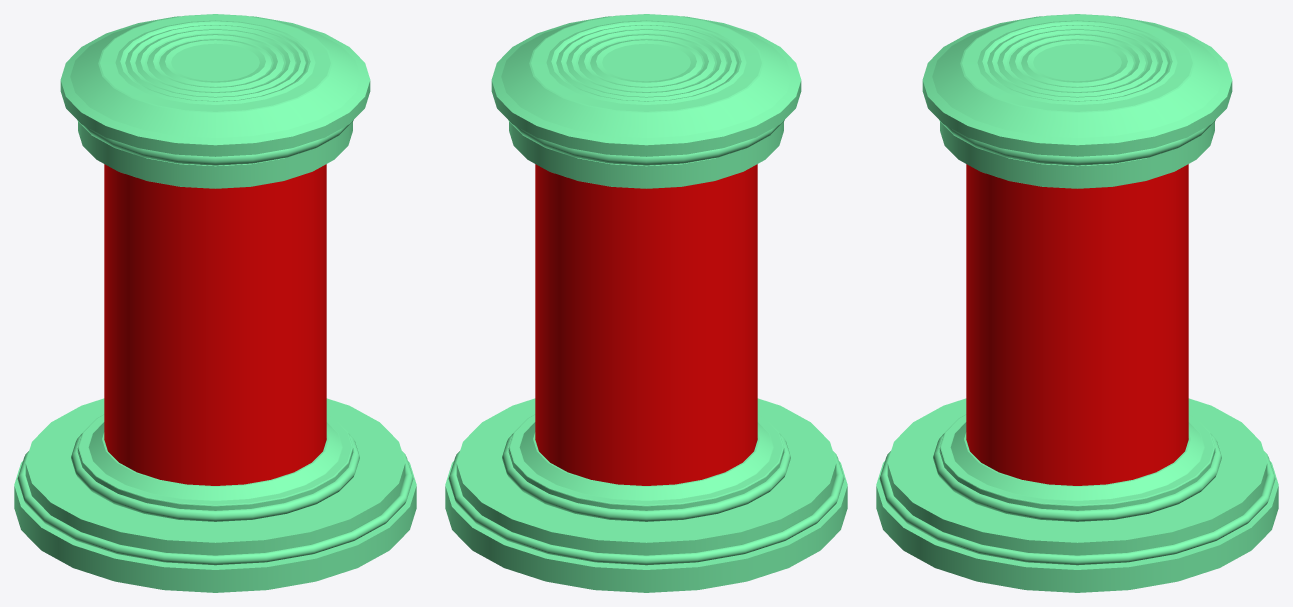
The model's file is Glass Box.fbx.
3 renders of one model, left to right at view 1: azimuth 30°, elevation 25°; view 2: azimuth 150°, elevation 25°; view 3: azimuth 270°, elevation 25°, orthographic.
Visible parts, largest first — view 1: Glass Box; view 2: Glass Box; view 3: Glass Box.
Boxes of the visible parts, left/top/right/bottom form: Glass Box: left=14, top=14, right=416, bottom=592; Glass Box: left=445, top=14, right=847, bottom=592; Glass Box: left=876, top=14, right=1278, bottom=592.
Bounding box in the file's own units: 34.76 × 42.54 × 34.76.
